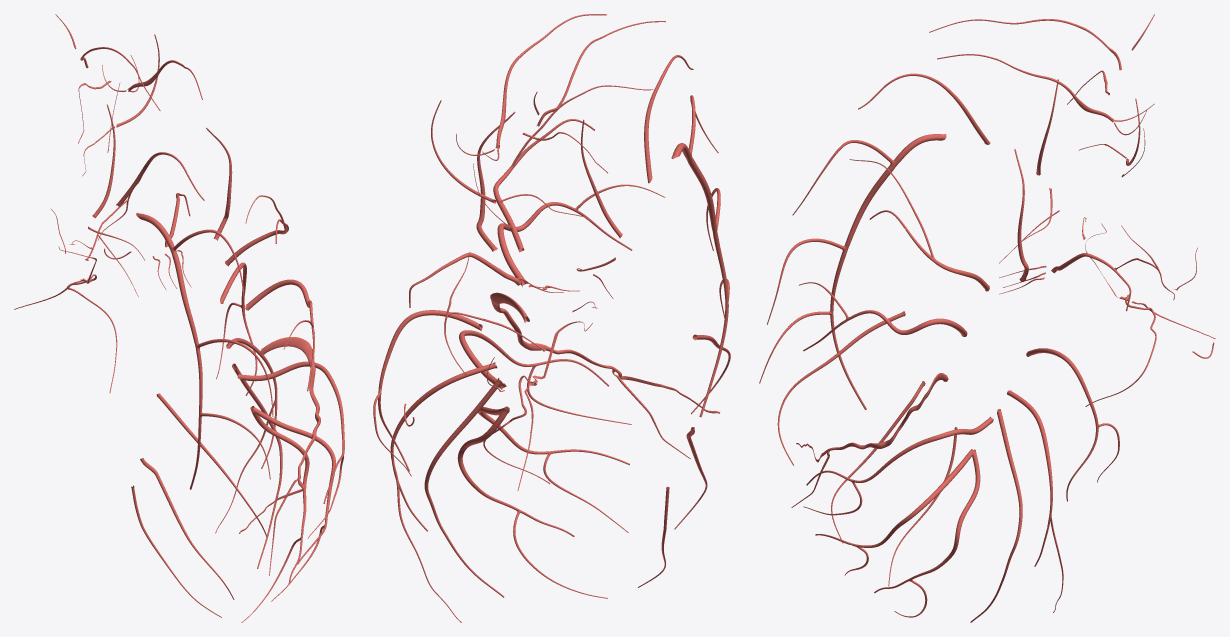
3 views of the same model, side by side, from view 1: azimuth 30°, elevation 25°; view 2: azimuth 150°, elevation 25°; view 3: azimuth 270°, elevation 25° (orthographic). The views are drawn at different scales.
Parts seen in each view (by area): view 1: Callosomarginal right, Central right, Anterior parietal right, Posterior parietal right, Angular right, Precentral right, Temporo-occipital right, Paracentral right, Middle temporal right, Precuneal right, Posterior temporal right; view 2: Callosomarginal right, Central right, Temporo-occipital right, Middle temporal right, Precentral right, Anterior parietal right, Posterior temporal right, Angular right, Prefrontal right, Posterior parietal right, ACA frontopolar right, MCA orbitofrontal right (+2 smaller); view 3: Callosomarginal right, Anterior parietal right, Temporo-occipital right, Posterior parietal right, Angular right, Precentral right, Central right, Posterior temporal right, Middle temporal right, Paracentral right.
Part boxes in pixels (box(x1,y1,x2,y2)): Callosomarginal right: box(136, 212, 202, 489); Central right: box(239, 337, 320, 533); Anterior parietal right: box(237, 361, 344, 503); Posterior parietal right: box(252, 406, 335, 564); Angular right: box(250, 406, 309, 583); Precentral right: box(245, 279, 314, 391); Temporo-occipital right: box(232, 363, 282, 568); Paracentral right: box(156, 393, 266, 536); Middle temporal right: box(220, 262, 257, 395); Precuneal right: box(140, 458, 234, 599); Posterior temporal right: box(226, 338, 277, 468); Callosomarginal right: box(671, 143, 728, 417); Central right: box(490, 292, 720, 413); Temporo-occipital right: box(424, 378, 504, 597); Middle temporal right: box(378, 310, 482, 471); Precentral right: box(497, 202, 632, 286); Anterior parietal right: box(459, 330, 609, 389); Posterior temporal right: box(390, 362, 497, 531); Angular right: box(457, 407, 574, 536); Prefrontal right: box(493, 119, 594, 252); Posterior parietal right: box(478, 406, 629, 465); ACA frontopolar right: box(644, 55, 693, 183); MCA orbitofrontal right: box(476, 111, 515, 251); Callosomarginal right: box(830, 134, 946, 409); Anterior parietal right: box(806, 416, 993, 485); Temporo-occipital right: box(970, 409, 1022, 622); Posterior parietal right: box(815, 449, 973, 547); Angular right: box(874, 449, 980, 593); Precentral right: box(803, 310, 967, 351); Central right: box(796, 373, 948, 462); Posterior temporal right: box(1007, 390, 1052, 566); Middle temporal right: box(1026, 348, 1098, 501); Paracentral right: box(777, 311, 905, 465).
Bounding box in the file's own units: 63.19 × 164 × 120.
